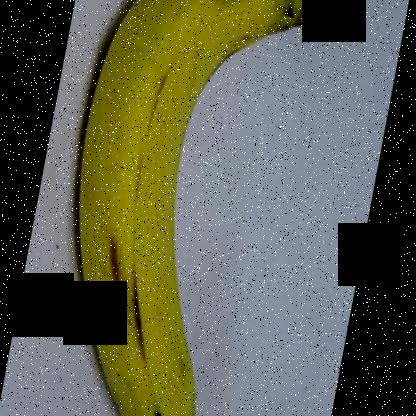freshripe: (59, 0, 325, 415)
